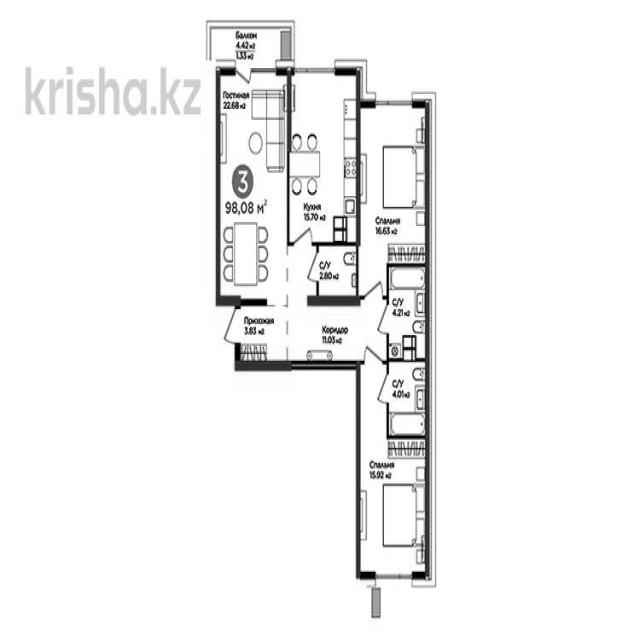balcony: (213, 22, 291, 70)
bathroom: (388, 266, 431, 360), (388, 362, 428, 438), (315, 243, 357, 297)
hallway: (358, 263, 387, 438), (288, 298, 357, 366), (238, 306, 287, 367)
kitchen: (290, 68, 360, 245)
living_room: (219, 67, 288, 306), (359, 101, 429, 264), (362, 438, 428, 576)
